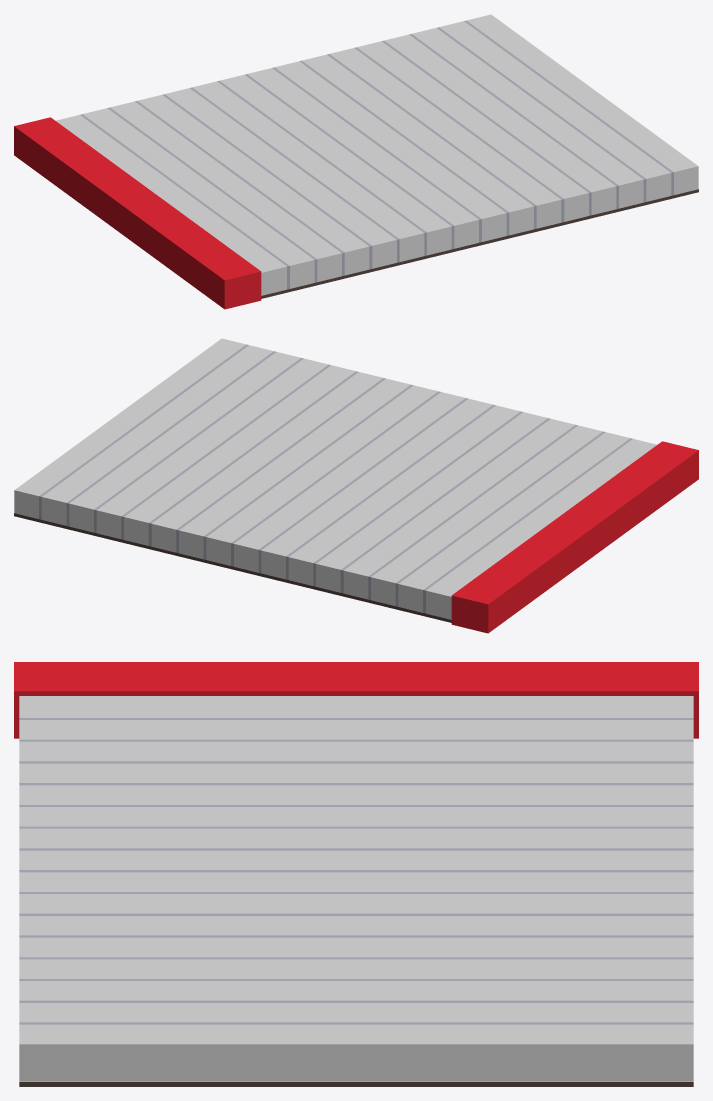
The model's file is Notes.fbx.
3 views of the same model, one above another, from view 1: azimuth 30°, elevation 25°; view 2: azimuth 150°, elevation 25°; view 3: azimuth 270°, elevation 25° (orthographic). The views are drawn at different scales.
Parts seen in each view (by area): view 1: Cube; view 2: Cube; view 3: Cube.
Part boxes in pixels (x1=…): Cube: x1=14, y1=14, x2=698, y2=309; Cube: x1=14, y1=338, x2=698, y2=633; Cube: x1=14, y1=662, x2=698, y2=1086.
Size of the model in its own units: 490 by 28.68 by 376.
